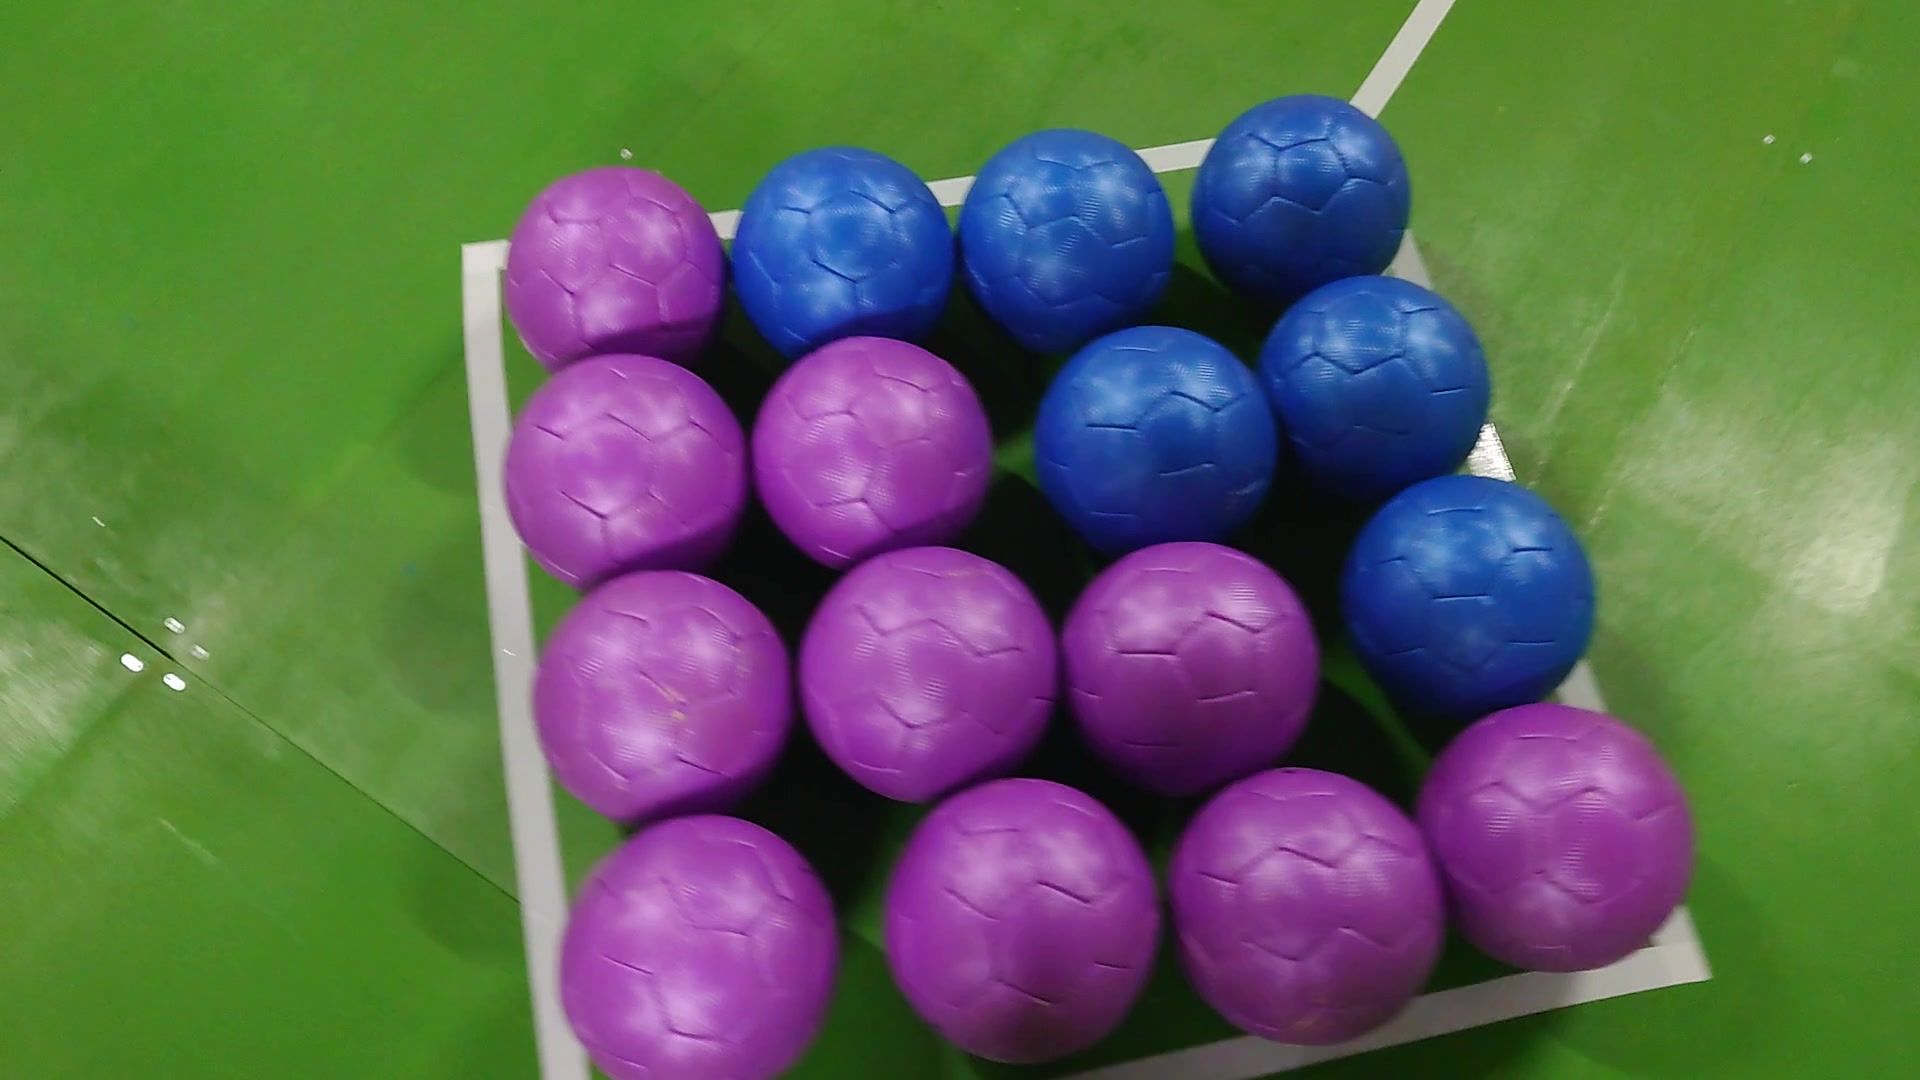blue: (1338, 473, 1597, 721), (1035, 323, 1280, 549), (1254, 268, 1493, 493), (957, 128, 1175, 352), (732, 144, 960, 356), (1192, 91, 1414, 301)
purple: (1418, 699, 1698, 973), (1168, 761, 1443, 1042), (555, 810, 839, 1080), (889, 774, 1163, 1051), (533, 564, 796, 820), (800, 549, 1058, 800), (502, 349, 745, 588), (1058, 546, 1319, 764), (754, 334, 1000, 558), (506, 164, 725, 369)
